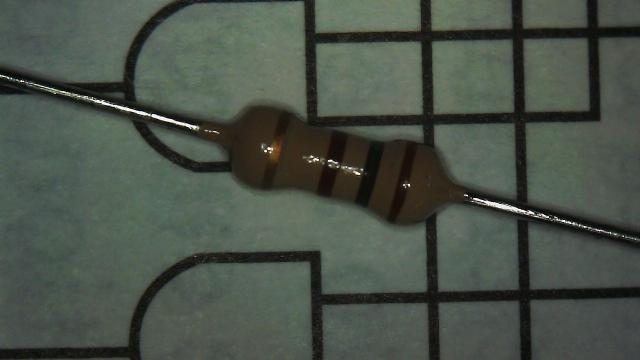black: (364, 138, 378, 203)
brown: (396, 140, 414, 218), (325, 133, 343, 193)
gold: (264, 104, 292, 192)
resistor: (193, 67, 490, 254)
